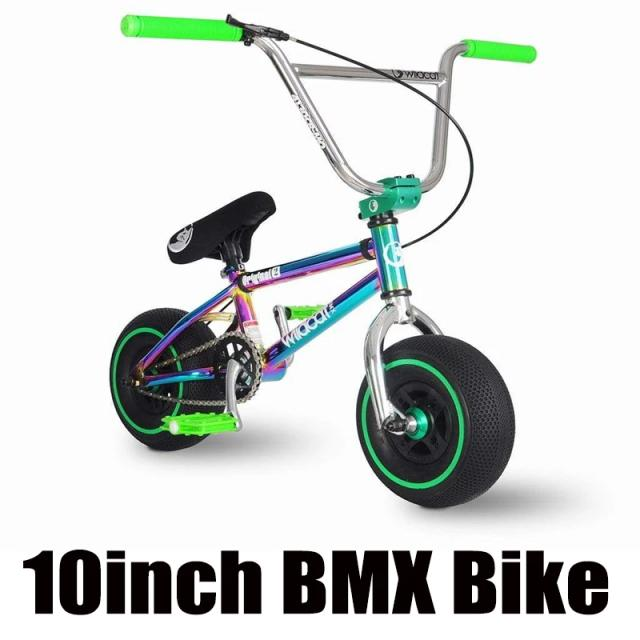bmx-bike: (100, 14, 537, 509)
